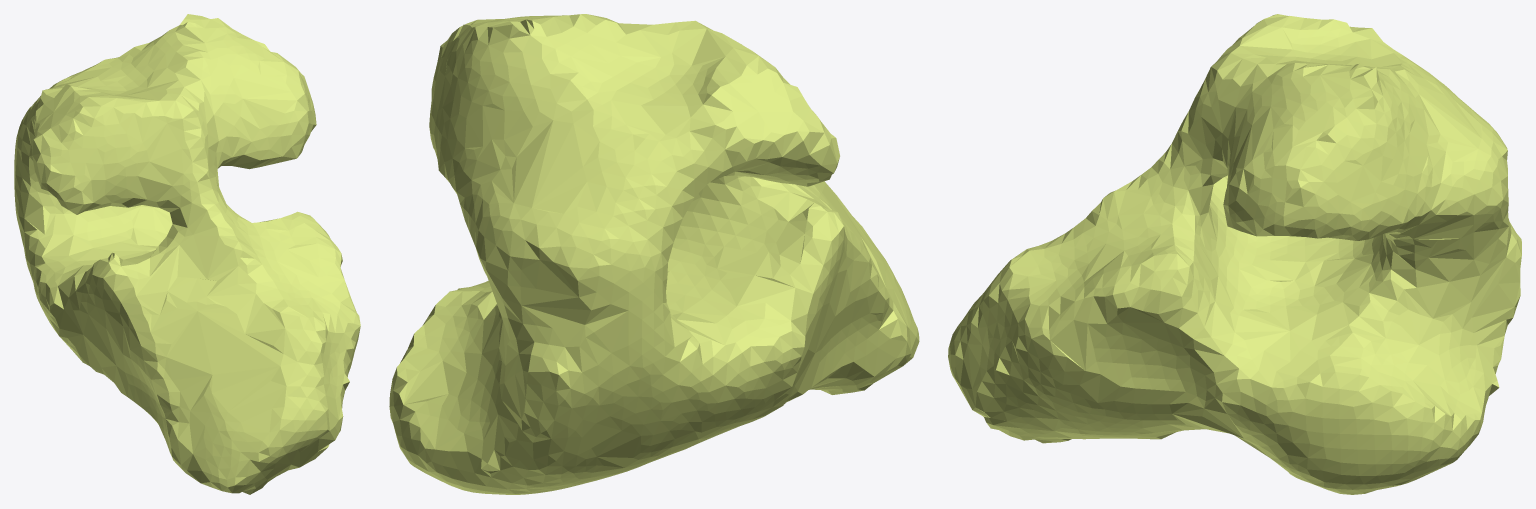
File: Model_10185_LH__Bed_nucleus_of_the_stria_terminalis_(ST).obj
The picture shows the model from 3 angles, left to right: view 1: azimuth 30°, elevation 25°; view 2: azimuth 150°, elevation 25°; view 3: azimuth 270°, elevation 25°; orthographic projection. The views are drawn at different scales.
Size of the model in its own units: 2.2 by 2.59 by 3.27.
